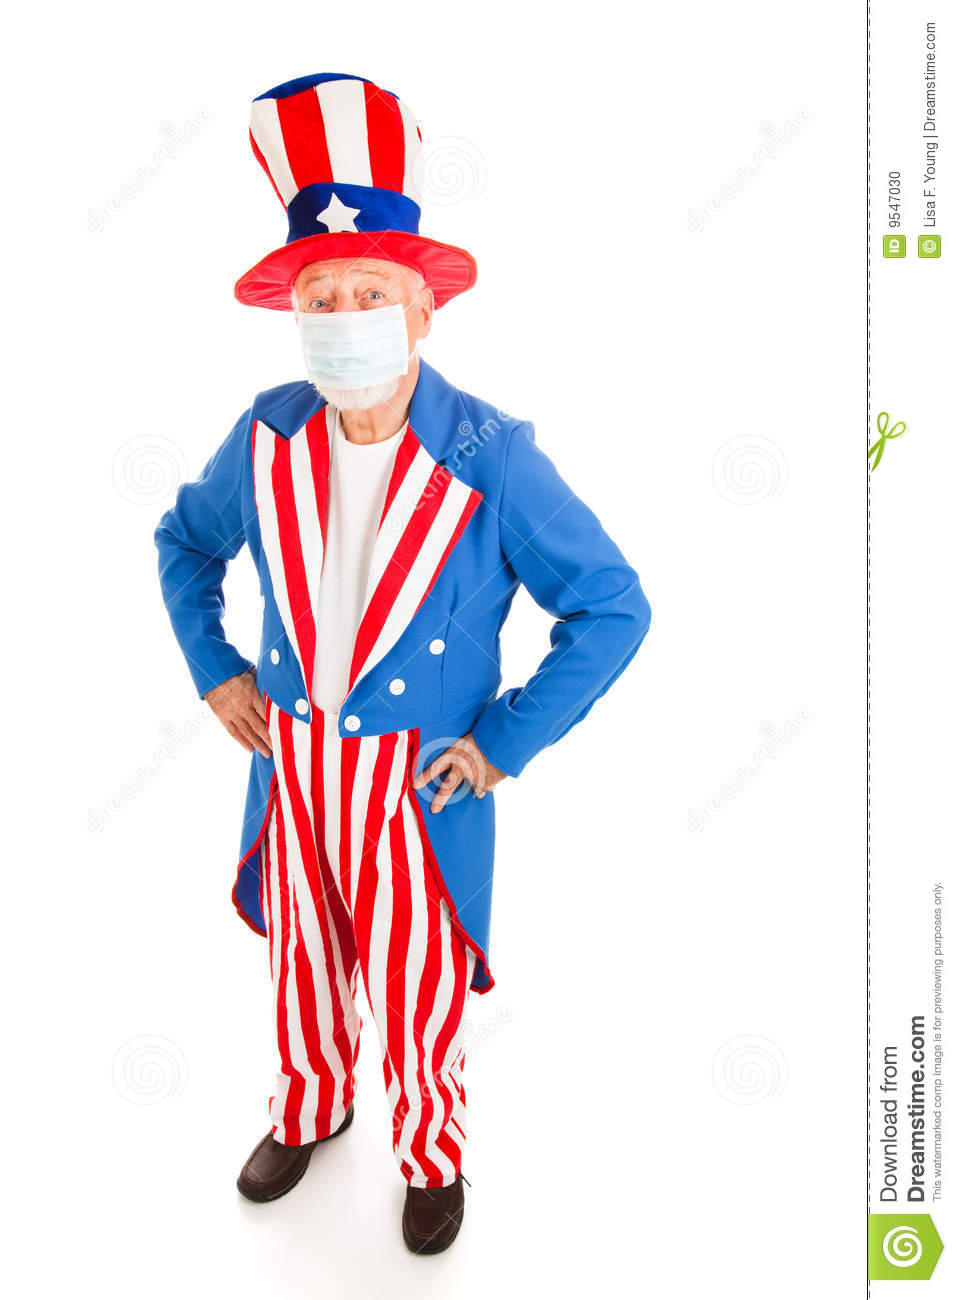mask: (288, 299, 426, 405)
